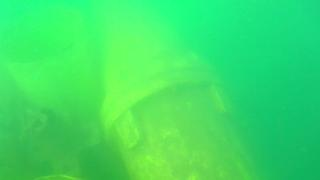pipe: (99, 36, 264, 180), (1, 1, 100, 113)
